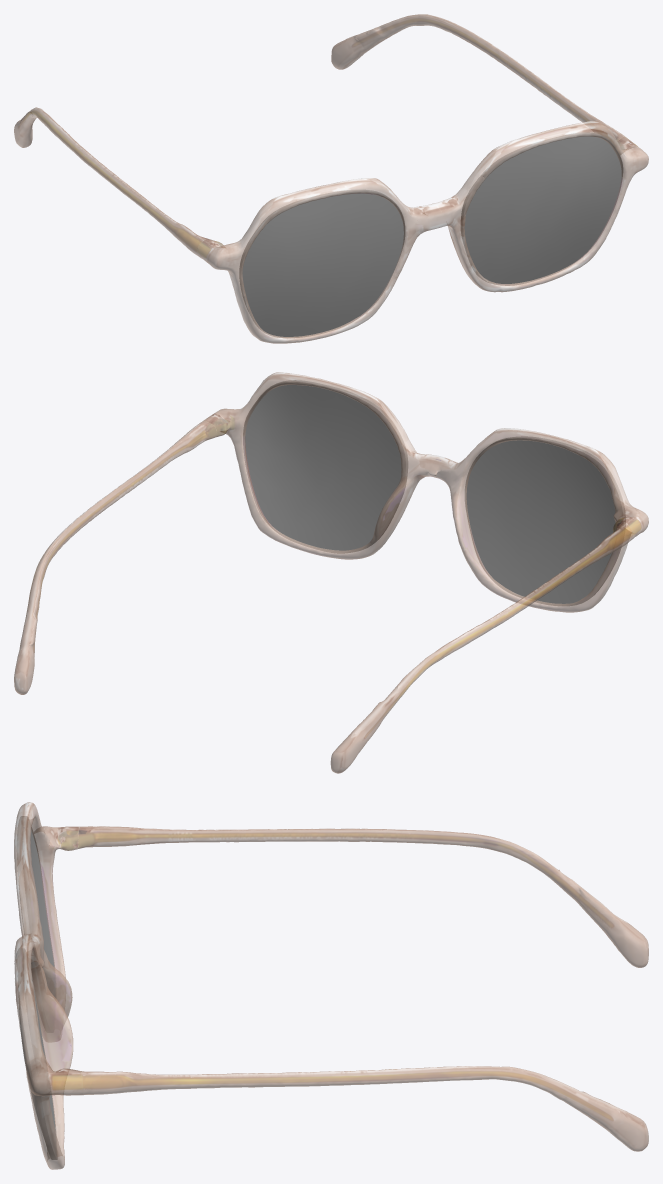
3 views of the same model, one above another, from view 1: azimuth 30°, elevation 25°; view 2: azimuth 150°, elevation 25°; view 3: azimuth 270°, elevation 25° (orthographic). The views are drawn at different scales.
Visible parts, largest first — view 1: LensR_geometry, LensL_geometry, Full_rim_geometry, TempleL_geometry, TempleR_geometry; view 2: LensL_geometry, LensR_geometry, Full_rim_geometry, TempleR_geometry, TempleL_geometry; view 3: Full_rim_geometry, TempleL_geometry, TempleR_geometry, LensL_geometry, LensR_geometry.
Part boxes in pixels (left/top/right/bottom): LensR_geometry: left=239, top=190, right=404, bottom=337; LensL_geometry: left=461, top=132, right=622, bottom=285; Full_rim_geometry: left=197, top=121, right=648, bottom=343; TempleL_geometry: left=331, top=14, right=624, bottom=144; TempleR_geometry: left=14, top=107, right=208, bottom=255; LensL_geometry: left=243, top=380, right=407, bottom=553; LensR_geometry: left=465, top=436, right=625, bottom=605; Full_rim_geometry: left=203, top=372, right=648, bottom=612; TempleR_geometry: left=330, top=522, right=632, bottom=773; TempleL_geometry: left=14, top=421, right=216, bottom=694; Full_rim_geometry: left=14, top=802, right=82, bottom=1169; TempleL_geometry: left=80, top=1066, right=648, bottom=1151; TempleR_geometry: left=78, top=826, right=648, bottom=967; LensL_geometry: left=17, top=948, right=57, bottom=1159; LensR_geometry: left=17, top=816, right=55, bottom=997.
Size of the model in its own units: 0.1399 by 0.0502 by 0.1476.
Materials: 3 (2 with a texture image).
